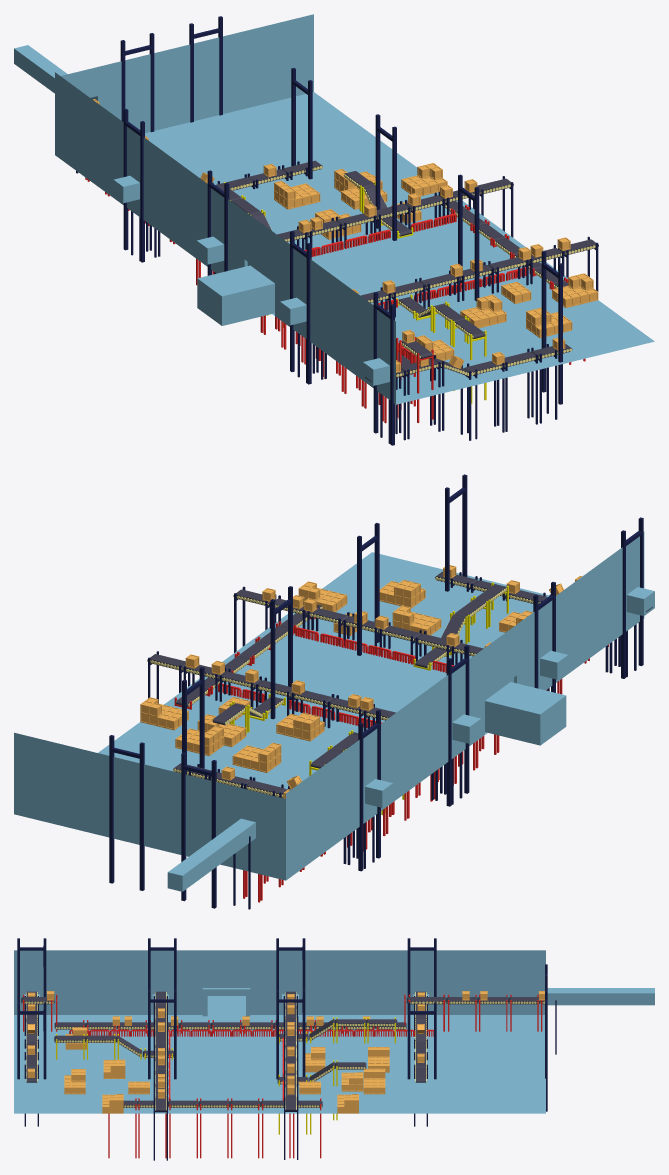
File: Enviroment01BaseRescaled_Recolored.fbx
3 renders of one model, top to bottom at view 1: azimuth 30°, elevation 25°; view 2: azimuth 150°, elevation 25°; view 3: azimuth 270°, elevation 25°, orthographic. The views are drawn at different scales.
Parts seen in each view (by area): view 1: Walls_Floors, MetalBar_62, MetalBar_64, MetalBar_66, MetalBar_63, MetalBar_60, MetalBar_61, MetalBar_59, MetalBar_57, MetalBar_58, MetalBar_65; view 2: Walls_Floors, MetalBar_58, MetalBar_65, MetalBar_66, MetalBar_57, MetalBar_63, MetalBar_60, MetalBar_61, MetalBar_62, MetalBar_59, MetalBar_64; view 3: Walls_Floors, MetalBar_60, MetalBar_59, MetalBar_62, MetalBar_61, MetalBar_63, MetalBar_66, MetalBar_65, MetalBar_64.
Boxes of the visible parts, box(x1,y1,x2,y2) form: Walls_Floors: box(14, 14, 654, 404); MetalBar_62: box(541, 251, 562, 404); MetalBar_64: box(290, 230, 311, 384); MetalBar_66: box(123, 108, 144, 262); MetalBar_63: box(373, 292, 394, 445); MetalBar_60: box(375, 114, 396, 240); MetalBar_61: box(458, 174, 479, 301); MetalBar_59: box(291, 68, 312, 179); MetalBar_57: box(120, 33, 154, 132); MetalBar_58: box(189, 16, 222, 122); MetalBar_65: box(207, 170, 229, 275); Walls_Floors: box(14, 531, 654, 891); MetalBar_58: box(109, 735, 144, 890); MetalBar_65: box(446, 645, 469, 806); MetalBar_66: box(358, 710, 380, 871); MetalBar_57: box(181, 752, 216, 908); MetalBar_63: box(621, 517, 643, 678); MetalBar_60: box(270, 586, 292, 719); MetalBar_61: box(357, 523, 379, 655); MetalBar_62: box(445, 474, 467, 591); MetalBar_59: box(182, 666, 204, 774); MetalBar_64: box(533, 582, 555, 692); Walls_Floors: box(14, 950, 654, 1113); MetalBar_60: box(276, 990, 305, 1079); MetalBar_59: box(407, 1002, 436, 1079); MetalBar_62: box(17, 1002, 46, 1079); MetalBar_61: box(148, 990, 176, 1079); MetalBar_63: box(17, 938, 46, 1002); MetalBar_66: box(407, 938, 436, 996); MetalBar_65: box(276, 938, 305, 990); MetalBar_64: box(148, 938, 176, 990).
Size of the model in its own units: 4.06 by 1.97 by 8.4.
